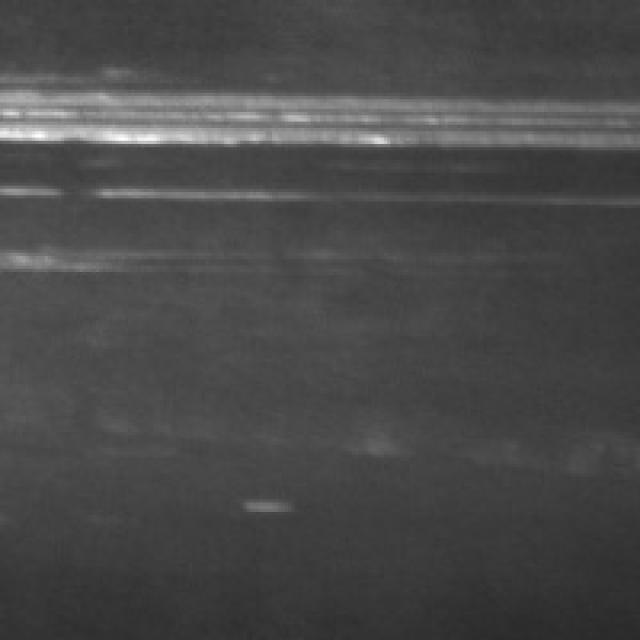scratches: (0, 64, 637, 154), (3, 173, 365, 221)
